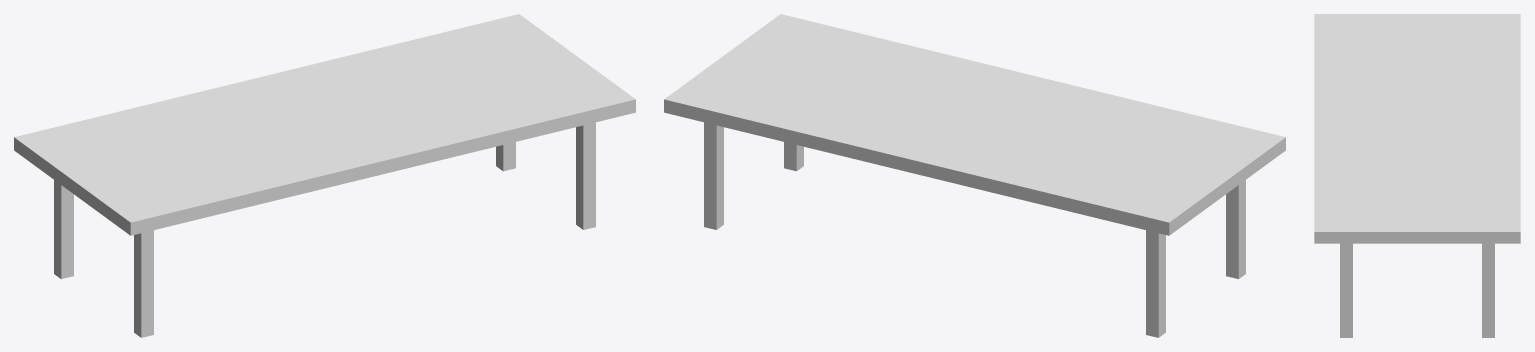
The model's file is 4er-tisch-verl-10.obj.
The picture shows the model from 3 angles, left to right: view 1: azimuth 30°, elevation 25°; view 2: azimuth 150°, elevation 25°; view 3: azimuth 270°, elevation 25°; orthographic projection. The views are drawn at different scales.
Bounding box in the file's own units: 4 × 1 × 1.6.
1 material, 1 textured.
